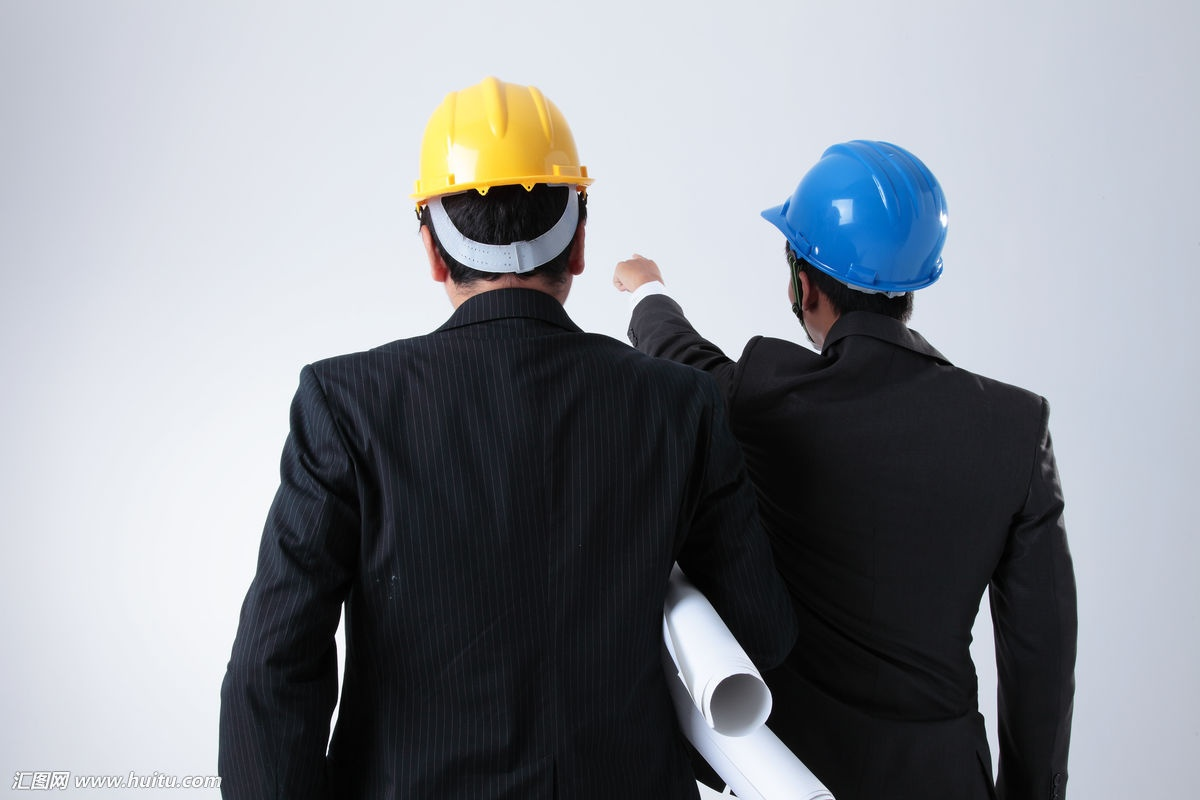blue: (764, 129, 951, 342)
yellow: (412, 80, 592, 316)
